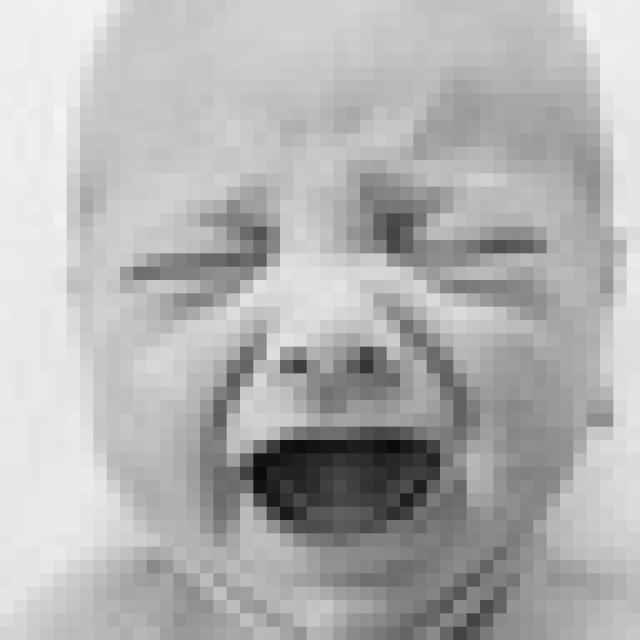sad: (125, 157, 561, 589)
